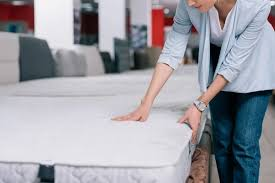bed-matress: (1, 57, 210, 181)
